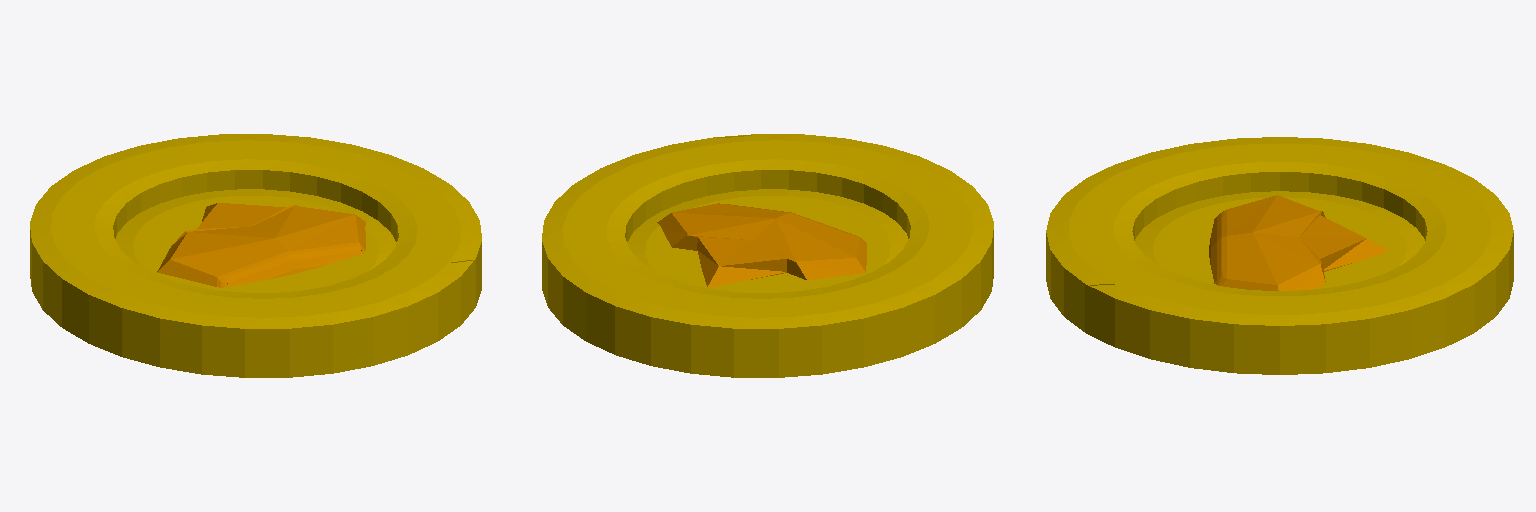
File: CoinObl.obj
The picture shows the model from 3 angles: view 1: azimuth 30°, elevation 25°; view 2: azimuth 150°, elevation 25°; view 3: azimuth 270°, elevation 25°; orthographic projection.
Visible parts, largest first — view 1: Cylinder, Plane; view 2: Cylinder, Plane; view 3: Cylinder, Plane.
Part boxes in pixels (left/top/right/bottom): Cylinder: left=30, top=134, right=481, bottom=377; Plane: left=157, top=203, right=365, bottom=287; Cylinder: left=542, top=134, right=993, bottom=377; Plane: left=657, top=203, right=866, bottom=287; Cylinder: left=1046, top=137, right=1513, bottom=374; Plane: left=1209, top=195, right=1389, bottom=290.
Bounding box in the file's own units: 2.35 × 0.3113 × 2.45.